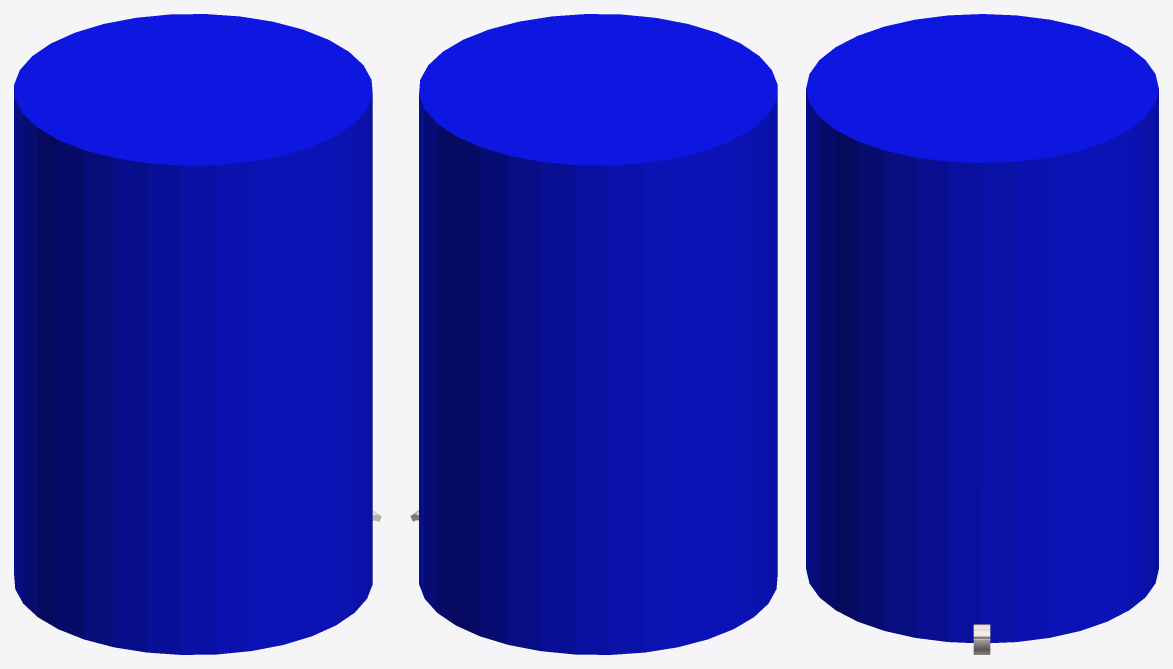
Rendered from 4. Tabung.fbx.
The picture shows the model from 3 angles, left to right: view 1: azimuth 30°, elevation 25°; view 2: azimuth 150°, elevation 25°; view 3: azimuth 270°, elevation 25°; orthographic projection.
Visible parts, largest first — view 1: Cylinder; view 2: Cylinder; view 3: Cylinder, Text.010.
Part boxes in pixels (left/top/right/bottom): Cylinder: left=14, top=14, right=372, bottom=654; Cylinder: left=419, top=14, right=777, bottom=654; Cylinder: left=806, top=14, right=1158, bottom=643; Text.010: left=973, top=624, right=990, bottom=654.
Size of the model in its own units: 557 by 774 by 510.
